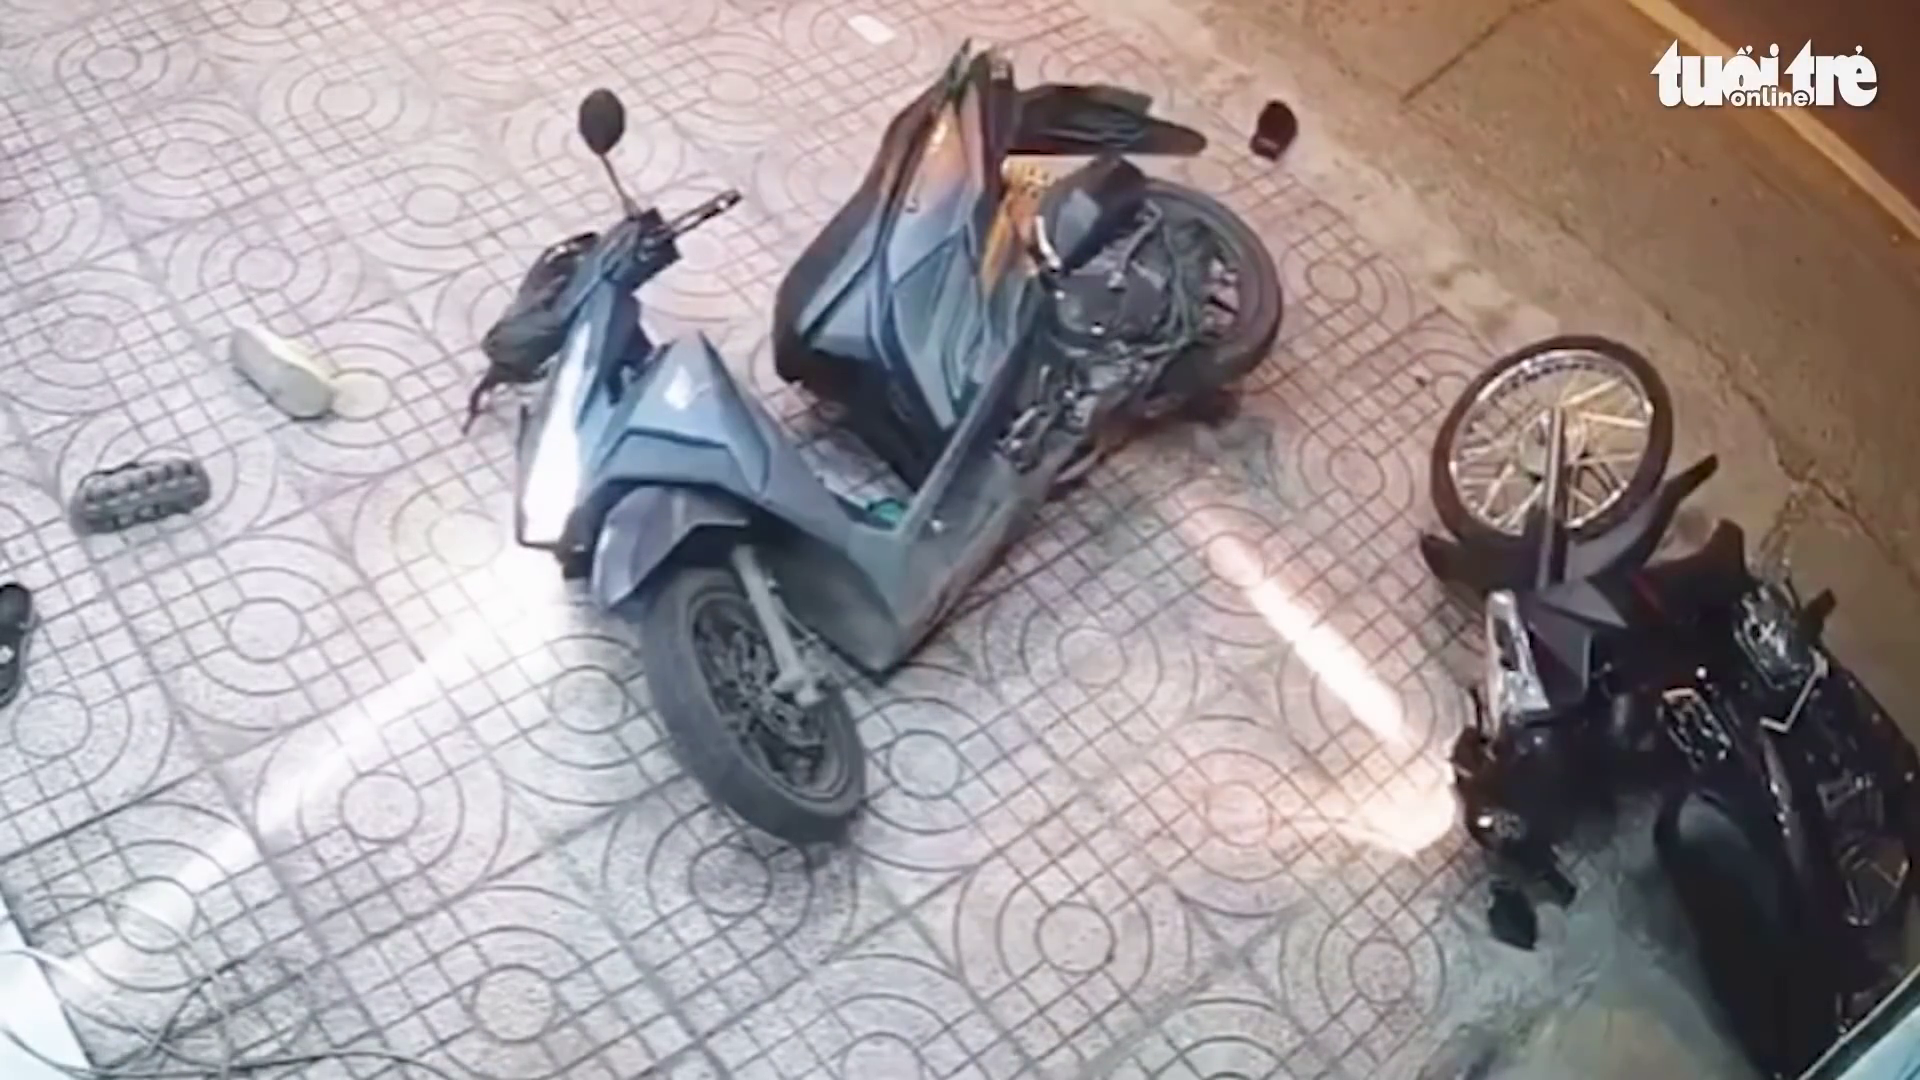Motorcycle: (465, 38, 1299, 845), (1416, 334, 1919, 1063)
